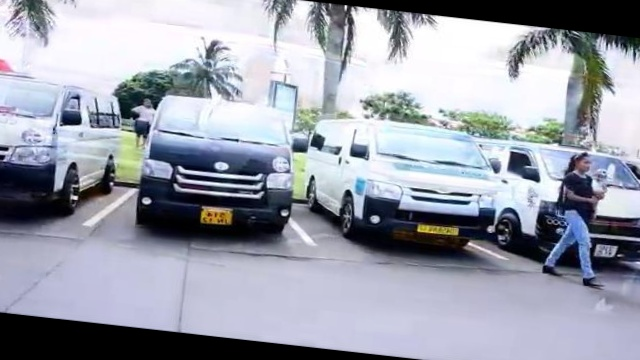van: (296, 115, 502, 260), (128, 89, 299, 243), (0, 73, 125, 226), (489, 144, 640, 267)
